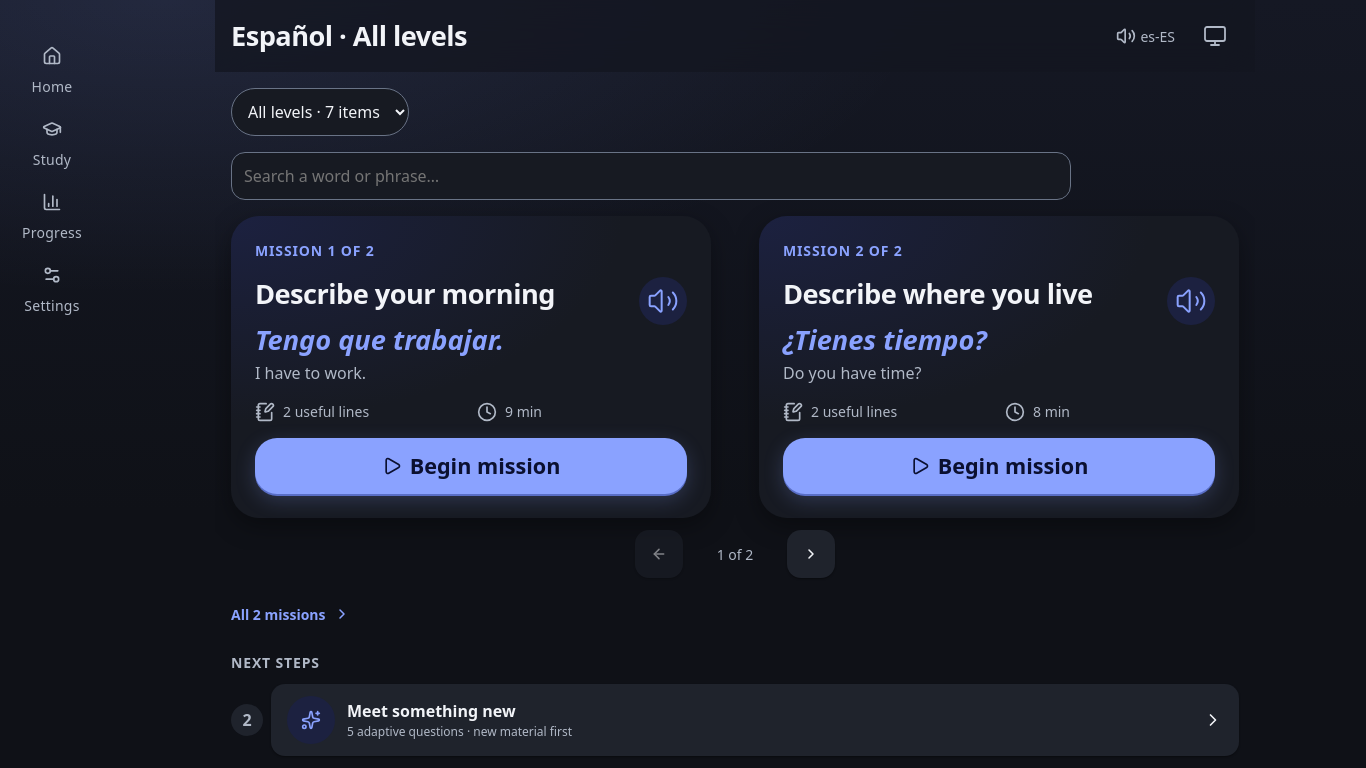
the mission strip › moves through the strip, and stops at both ends
The width and height of the screenshot is (1366, 768).
Expected: the heading "Español · All levels" is shown, [231,17,467,54]
Expected: the button named "Previous mission" is disabled, [635,530,683,578]
Click the button named "Next mission". click: (811, 554)
box: [787,530,835,578]
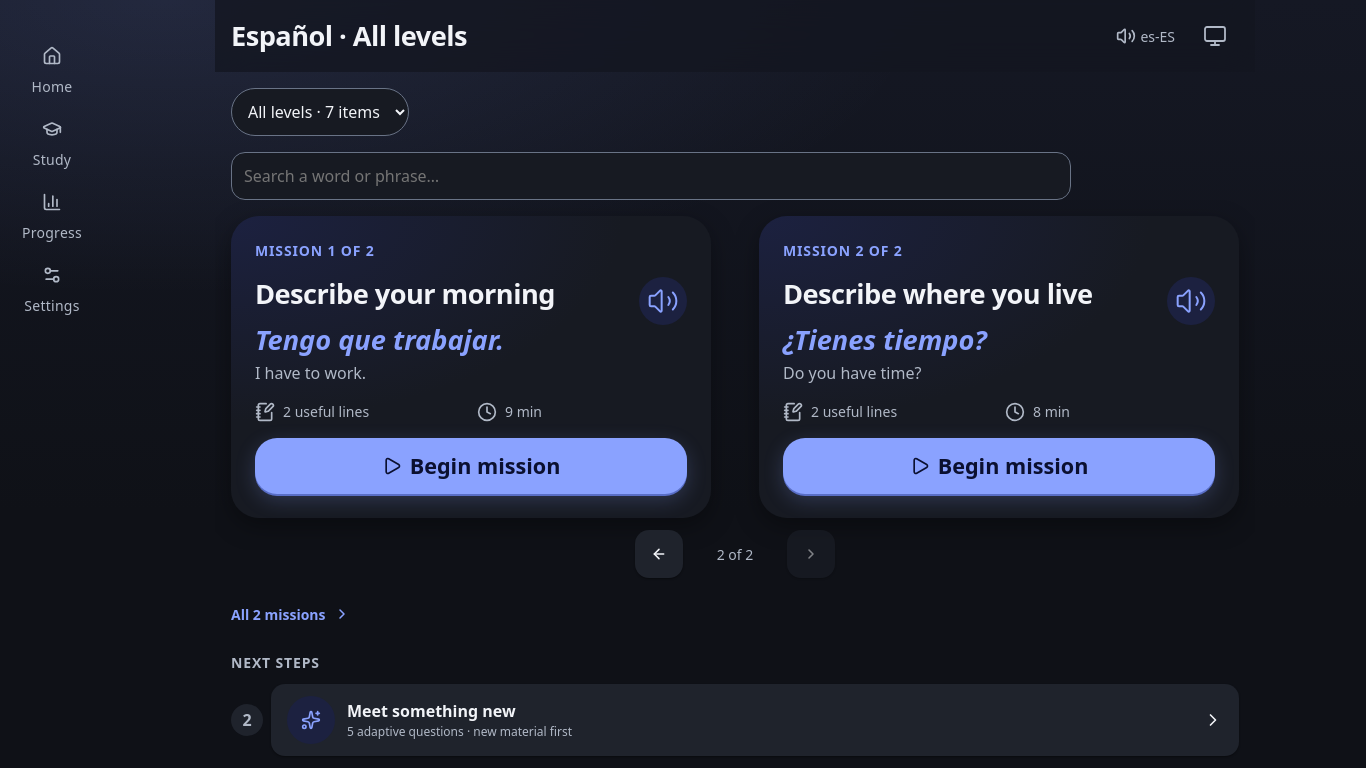
Now the text "2 of 2" is shown, box [717,545,753,564]
Click the button named "Previous mission". click: (659, 554)
box: [635,530,683,578]
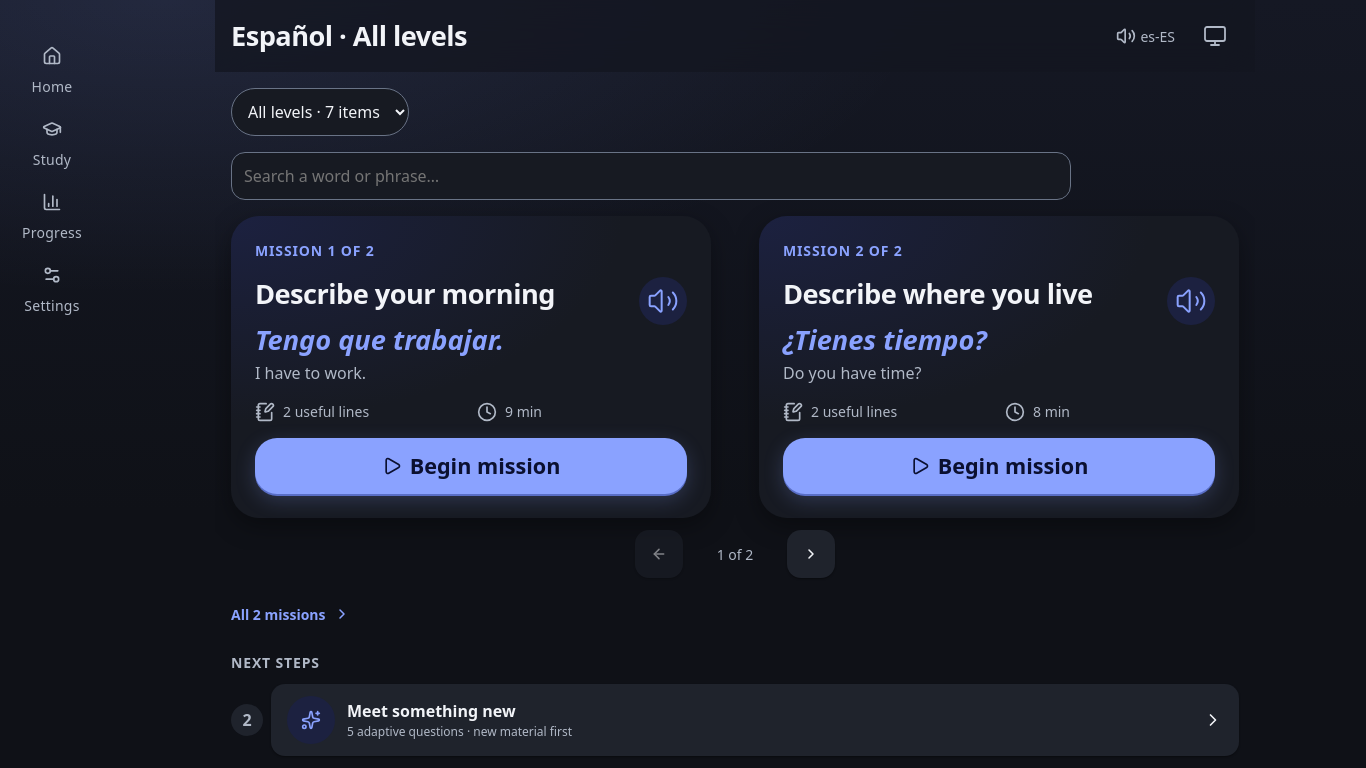
Now the text "1 of 2" is shown, box [717,545,753,564]
